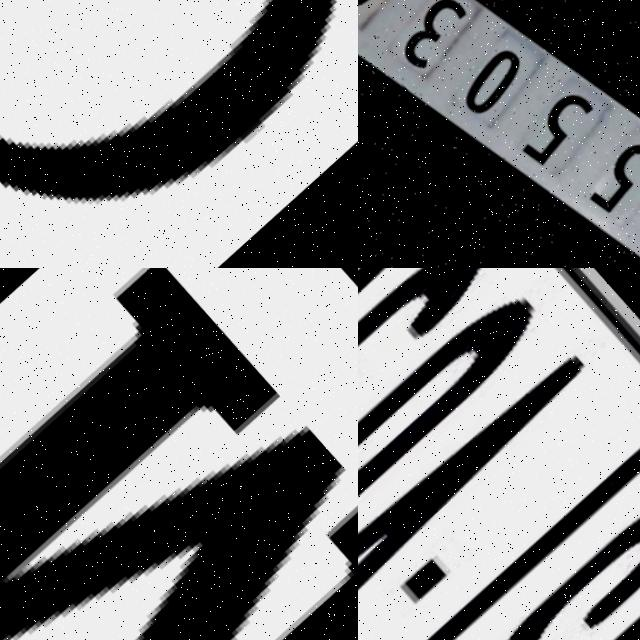0: (442, 34, 549, 141)
3: (375, 0, 491, 95)
5: (501, 76, 621, 195), (569, 126, 640, 242)
6: (358, 269, 557, 640), (358, 538, 640, 640), (358, 0, 423, 39)
9: (358, 268, 504, 624)
M: (0, 268, 358, 640)
S: (358, 463, 640, 640), (358, 268, 453, 575)
T: (358, 428, 640, 640)
V: (358, 341, 591, 640)
